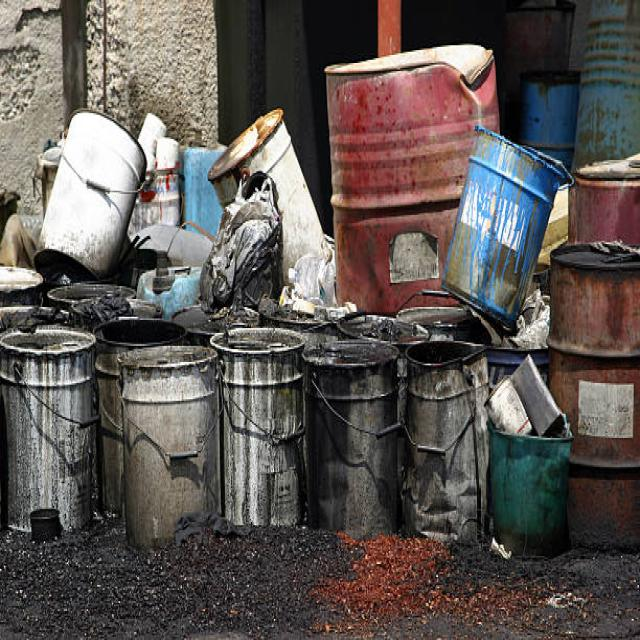metal: (25, 74, 630, 551)
